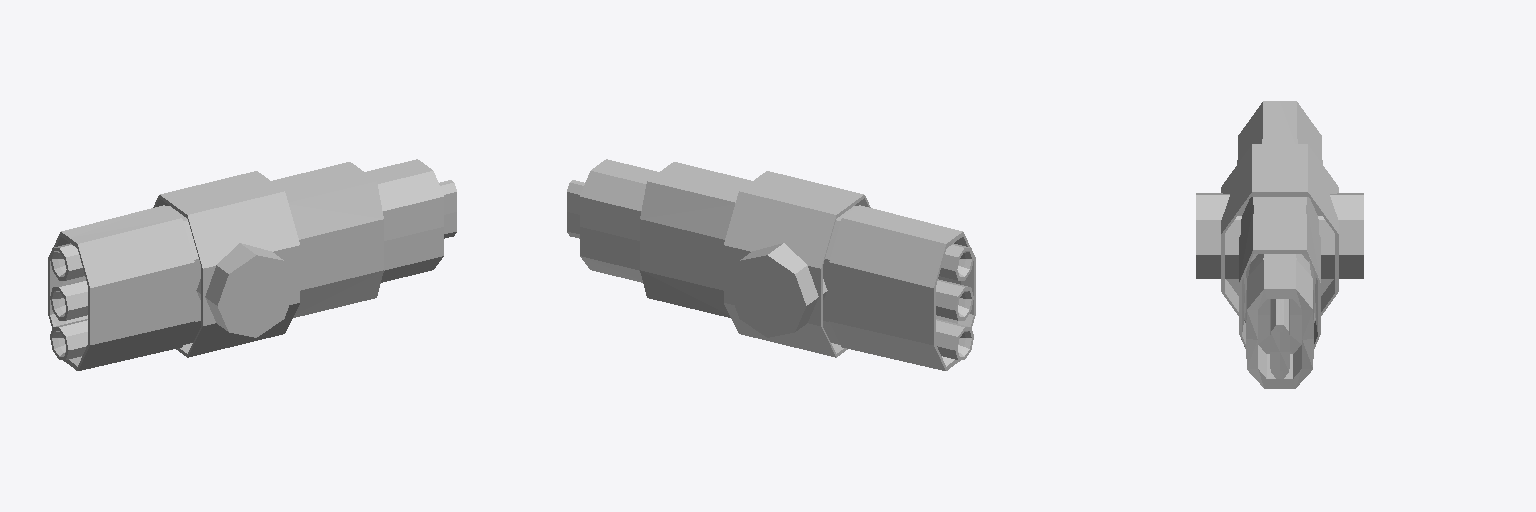
File: warship.obj
The picture shows the model from 3 angles: view 1: azimuth 30°, elevation 25°; view 2: azimuth 150°, elevation 25°; view 3: azimuth 270°, elevation 25°; orthographic projection.
Parts seen in each view (by area): view 1: main_Cube; view 2: main_Cube; view 3: main_Cube.
Boxes of the visible parts, box(x1,y1,x2,y2) form: main_Cube: box(48, 159, 456, 370); main_Cube: box(567, 159, 975, 370); main_Cube: box(1196, 101, 1363, 388).
Bounding box in the file's own units: 14.24 × 4.93 × 5.24.